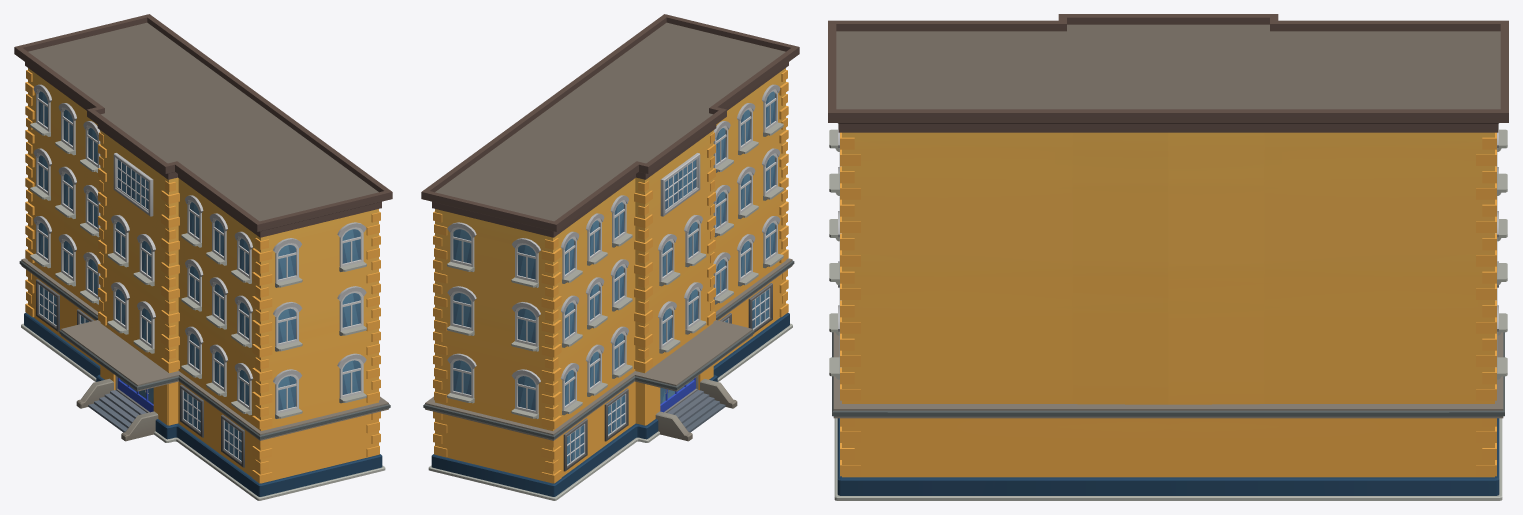
The model's file is Building_6_E.glb.
3 views of the same model, side by side, from view 1: azimuth 30°, elevation 25°; view 2: azimuth 150°, elevation 25°; view 3: azimuth 270°, elevation 25° (orthographic). The views are drawn at different scales.
Parts seen in each view (by area): view 1: Building_6_E; view 2: Building_6_E; view 3: Building_6_E.
Boxes of the visible parts, x1,y1,x2,y2 form: Building_6_E: [14, 14, 392, 500]; Building_6_E: [421, 14, 799, 500]; Building_6_E: [828, 14, 1508, 500].
Bounding box in the file's own units: 9.35 × 14.4 × 22.73.
3 materials, 3 textured.
